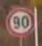limite 90: (4, 7, 35, 37)
